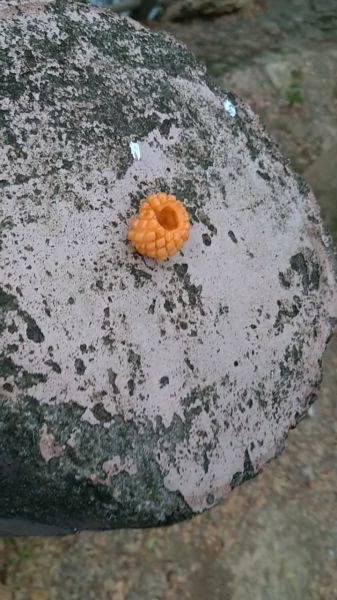eggs: (124, 183, 196, 265)
